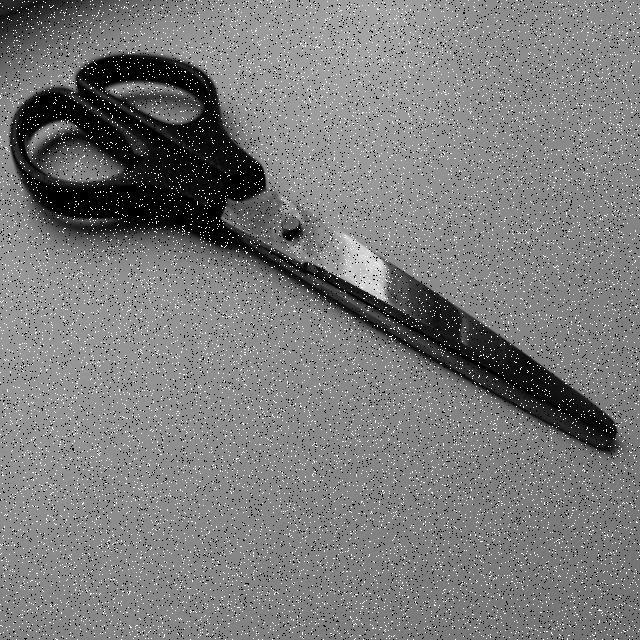scissors: (6, 44, 622, 466)
